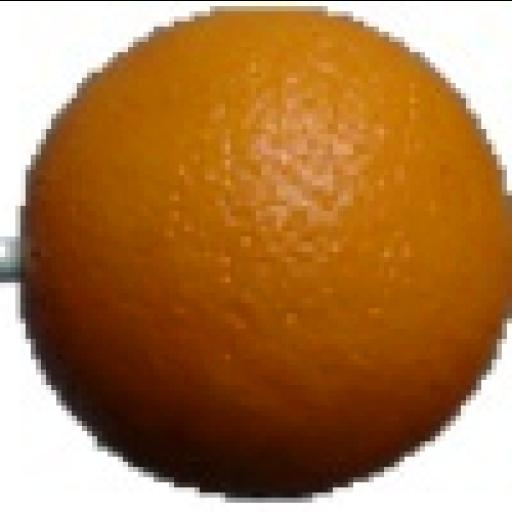orange: (25, 12, 511, 497)
